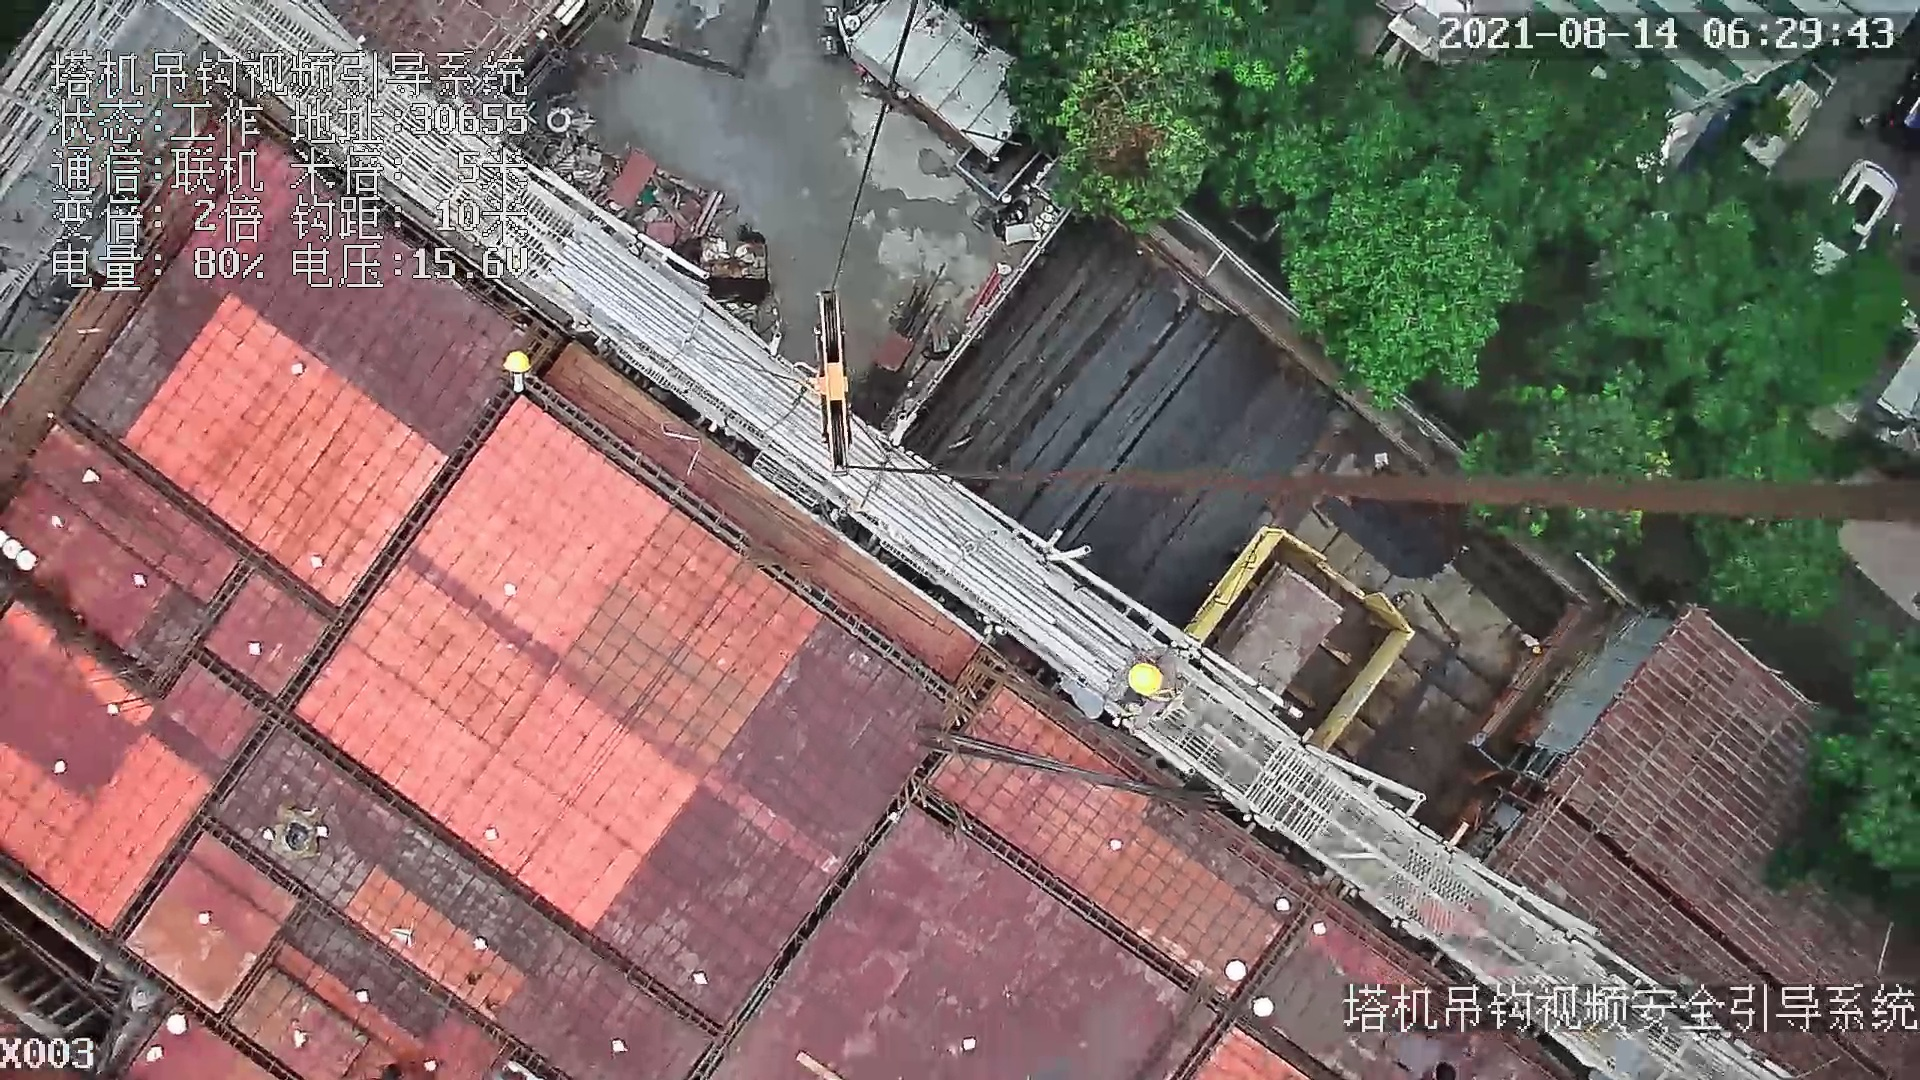helmet: (1128, 658, 1164, 697), (501, 347, 531, 377)
hook: (804, 289, 859, 478)
person: (1119, 640, 1210, 741)
rebar: (900, 233, 1272, 572)
